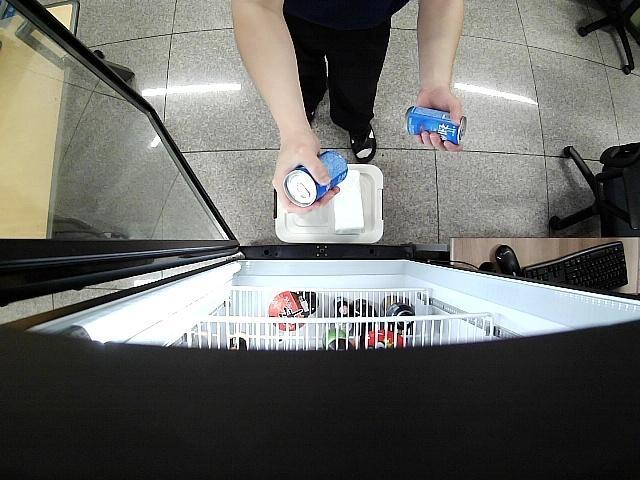15_letsbe: (285, 151, 350, 206), (404, 107, 468, 146)
